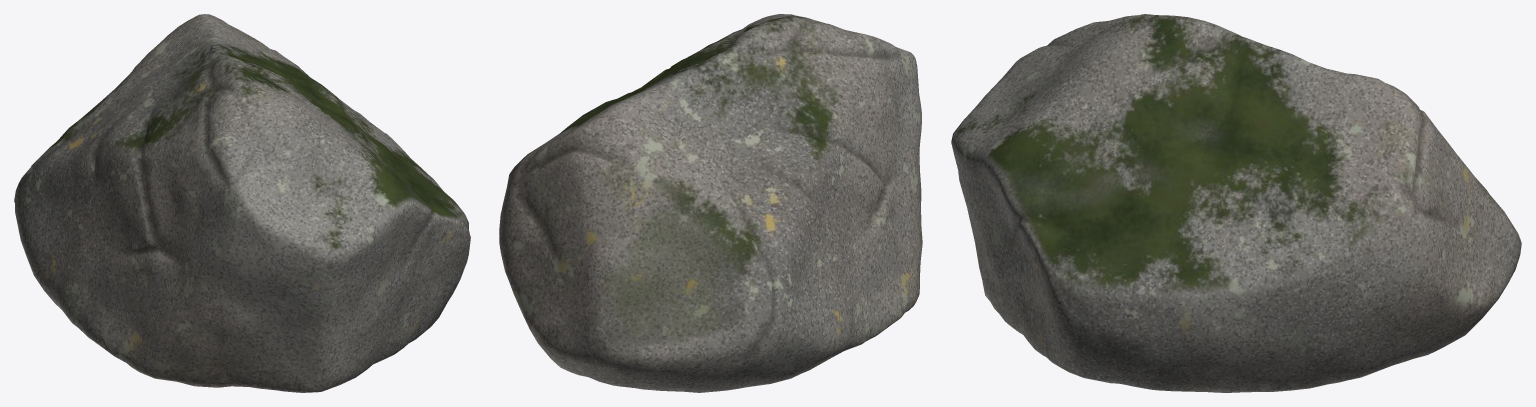
File: boulder.glb
3 views of the same model, side by side, from view 1: azimuth 30°, elevation 25°; view 2: azimuth 150°, elevation 25°; view 3: azimuth 270°, elevation 25° (orthographic). The views are drawn at different scales.
Visible parts, largest first — view 1: boulder; view 2: boulder; view 3: boulder.
Part boxes in pixels (<box>): boulder: <box>14,14,470,392</box>; boulder: <box>499,14,922,392</box>; boulder: <box>951,14,1521,392</box>.
Bounding box in the file's own units: 1.31 × 1.05 × 1.81.
1 material, 1 textured.
